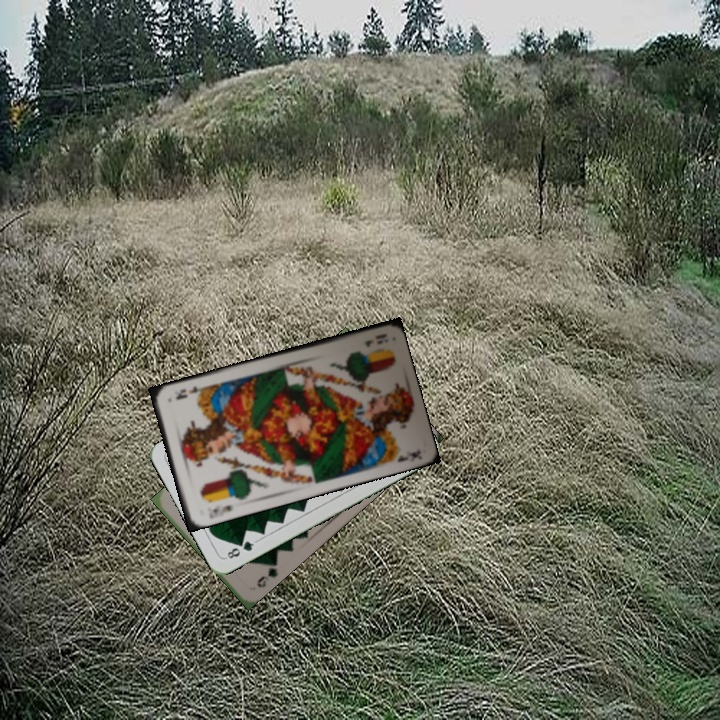EK: (205, 501, 235, 521), (361, 329, 388, 349)
G8: (222, 536, 259, 561)
G9: (253, 558, 280, 590)
